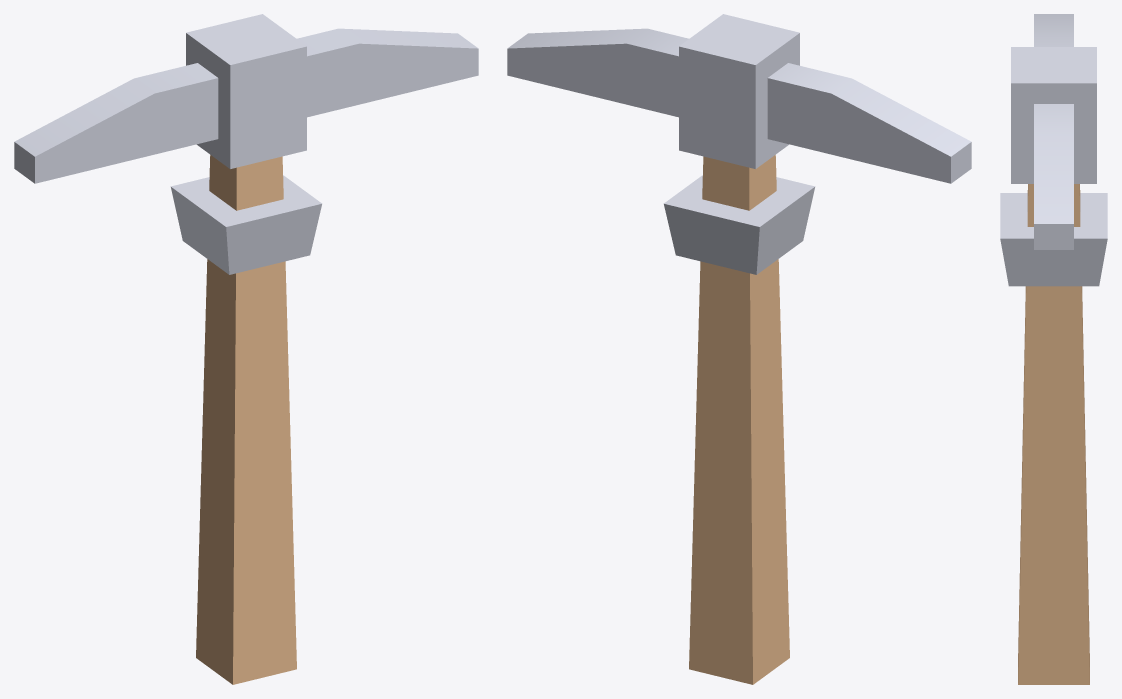
3 views of the same model, side by side, from view 1: azimuth 30°, elevation 25°; view 2: azimuth 150°, elevation 25°; view 3: azimuth 270°, elevation 25° (orthographic). The views are drawn at different scales.
Parts seen in each view (by area): view 1: toolPickaxe; view 2: toolPickaxe; view 3: toolPickaxe.
Boxes of the visible parts, x1,y1,x2,y2 form: toolPickaxe: (14,14,478,684); toolPickaxe: (507,14,971,684); toolPickaxe: (1000,14,1107,684).
Size of the model in its own units: 0.1786 by 0.24 by 0.0387.
